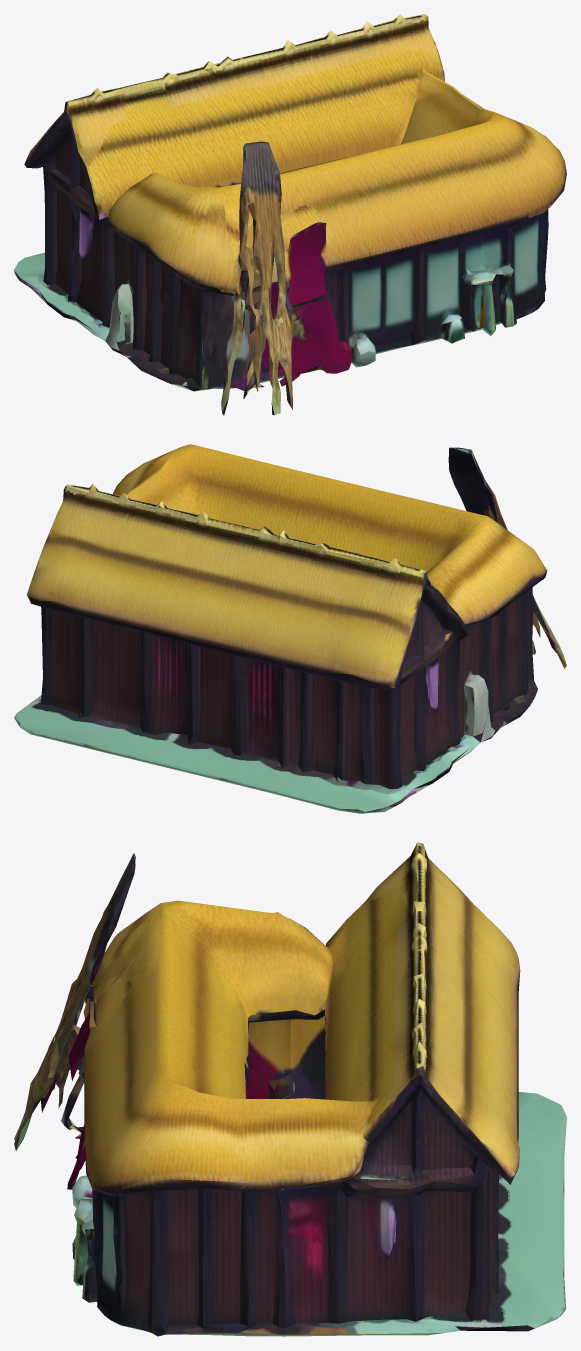
File: mapuches_cuartel.glb
3 renders of one model, top to bottom at view 1: azimuth 30°, elevation 25°; view 2: azimuth 150°, elevation 25°; view 3: azimuth 270°, elevation 25°, orthographic. The views are drawn at different scales.
Parts seen in each view (by area): view 1: geometry_0; view 2: geometry_0; view 3: geometry_0.
Part boxes in pixels (x1=…): geometry_0: x1=14, y1=14, x2=566, y2=415; geometry_0: x1=14, y1=444, x2=566, y2=813; geometry_0: x1=14, y1=842, x2=566, y2=1336.
Size of the model in its own units: 2.4 by 1.31 by 2.2.
1 material, 1 textured.
